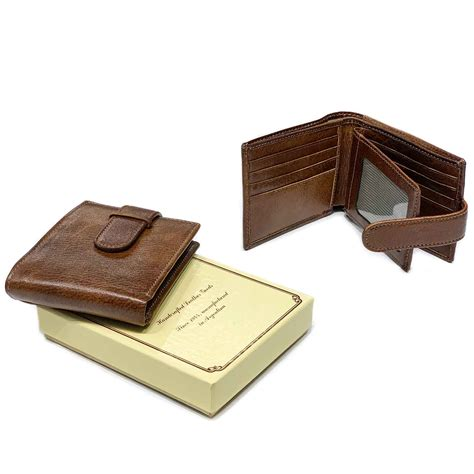cuero: (7, 110, 466, 330)
